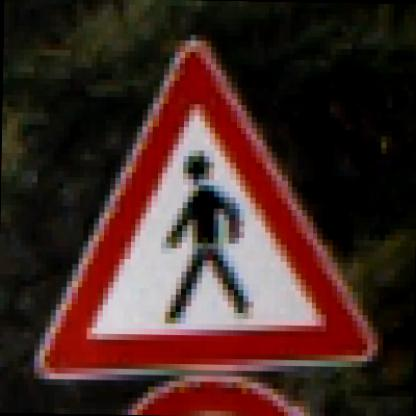crosswalk: (31, 28, 386, 390)
